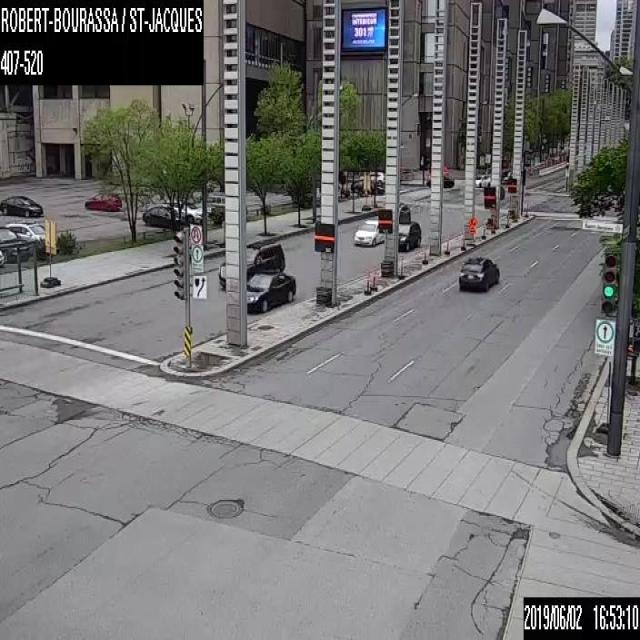construction: (466, 216, 474, 236), (399, 259, 403, 273), (481, 222, 485, 235), (514, 204, 517, 219), (372, 273, 375, 288), (366, 276, 369, 291), (491, 217, 494, 231), (423, 247, 426, 261), (525, 202, 528, 215), (505, 211, 508, 224), (461, 234, 464, 247), (446, 238, 449, 250)
vehicle: (217, 241, 284, 289), (244, 270, 296, 312), (456, 252, 499, 291), (0, 226, 29, 261), (162, 198, 204, 222), (141, 203, 182, 227), (5, 222, 44, 246), (352, 216, 384, 245), (0, 195, 43, 216), (397, 221, 422, 252), (83, 190, 120, 210), (351, 178, 385, 194), (425, 172, 454, 188), (360, 170, 384, 182), (398, 201, 411, 222), (474, 170, 490, 187), (500, 167, 512, 184)
